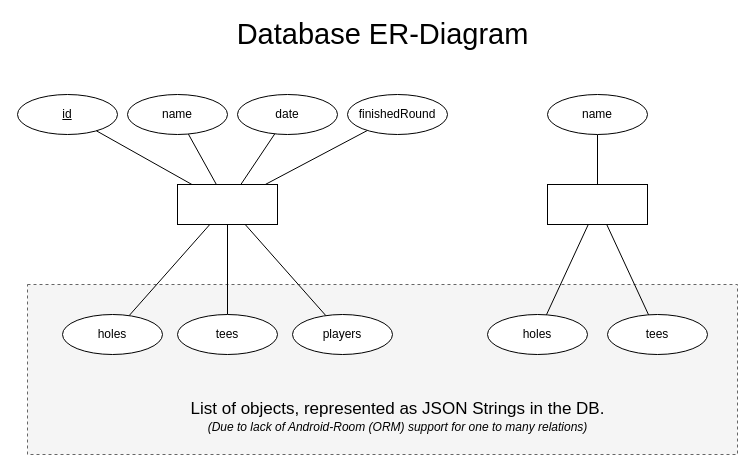
Image size: 755x472. Some labels were removed from this diagram. Each missing label, with the centre of its shape:
"Course" belongs at (597,204).
"Scorecard" belongs at (227,204).
